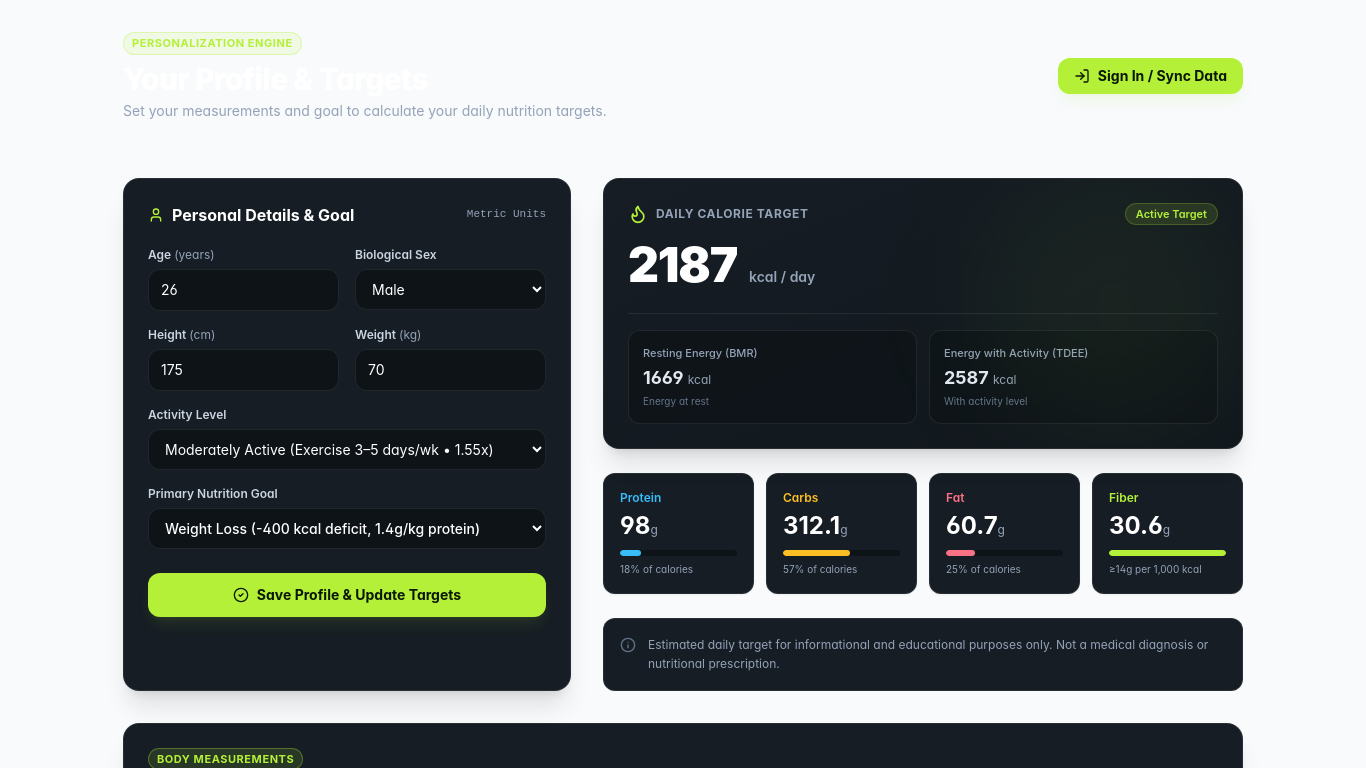
Test case: Profile Auth Modal - Password Recovery & Account Linking › 1. Clicking "Forgot password?" switches to the password recovery screen
The width and height of the screenshot is (1366, 768).
Click the button "Sign In / Sync Data". click: (1150, 76)
box: [1058,58,1243,94]
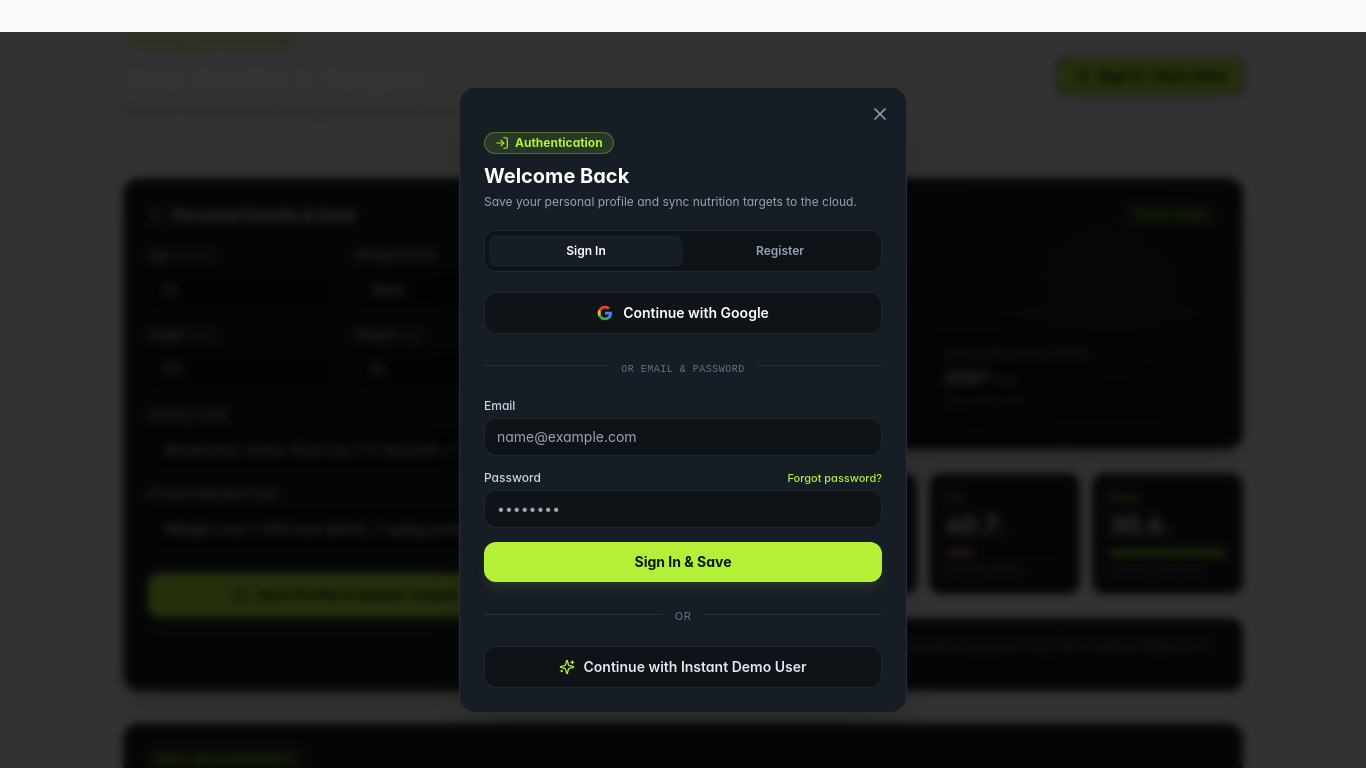
Expected: the heading "Welcome Back" is shown, [484,164,629,188]
Click the button "Forgot password?". click: (835, 478)
box: [787,470,882,486]
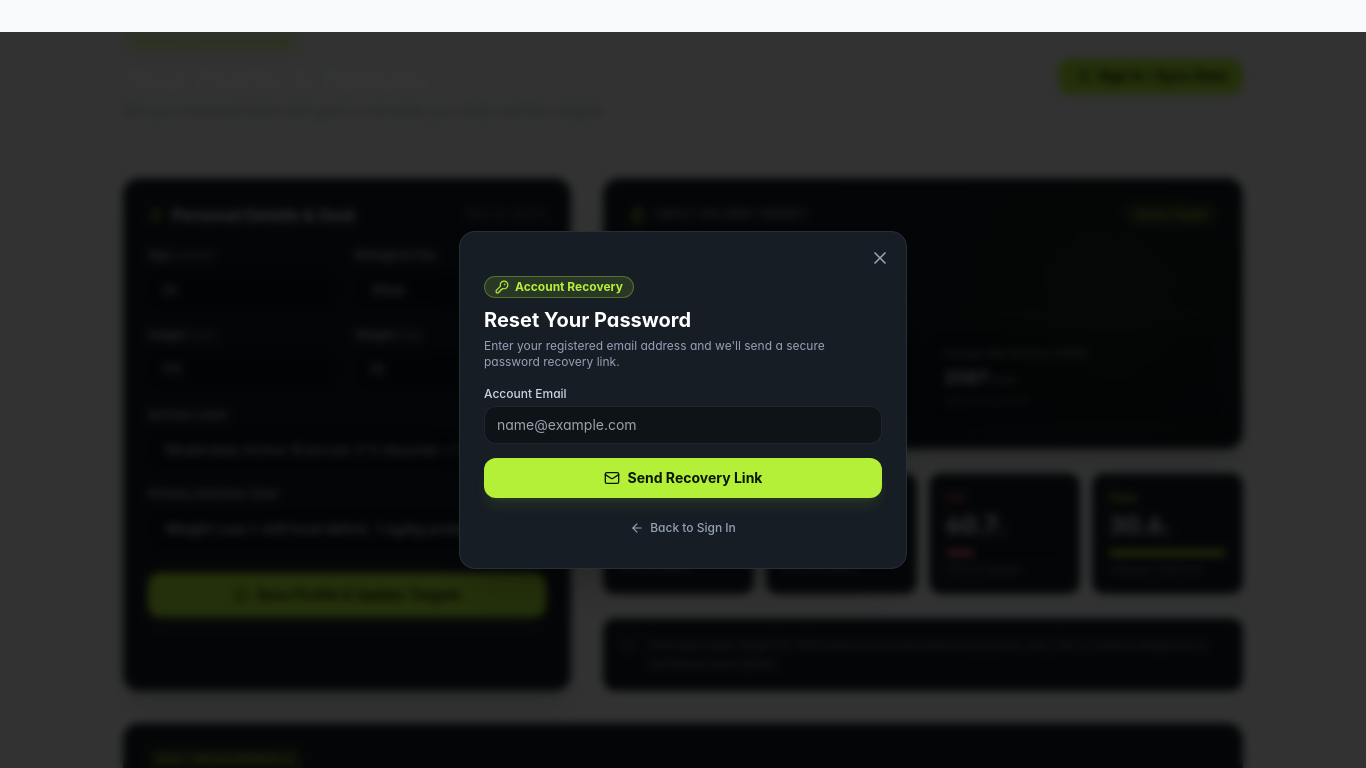
Expected: the heading "Reset Your Password" is shown, [484,308,691,332]
Expected: the button "Send Recovery Link" is shown, [484,458,882,498]
